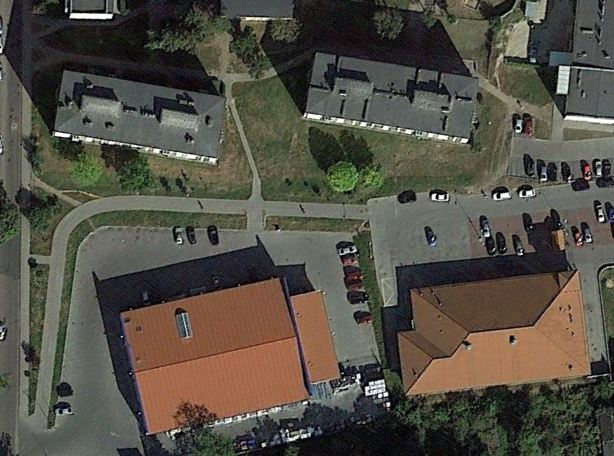block of flats: (51, 66, 231, 169), (301, 48, 483, 147), (550, 1, 614, 125)
shopping_center: (114, 274, 345, 439), (397, 265, 597, 396)
